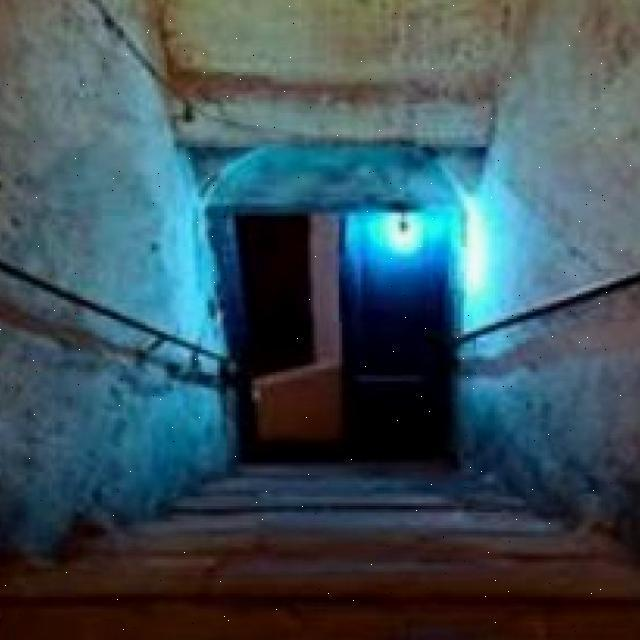stair: (86, 478, 541, 640)
